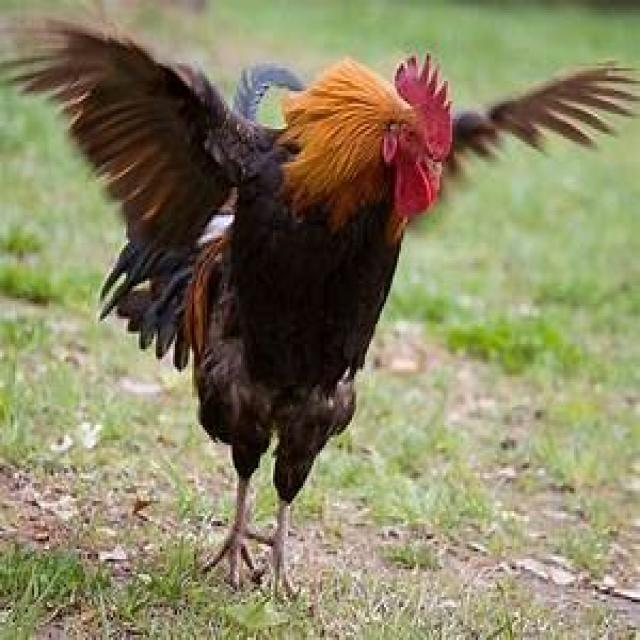hen: (0, 13, 640, 587)
